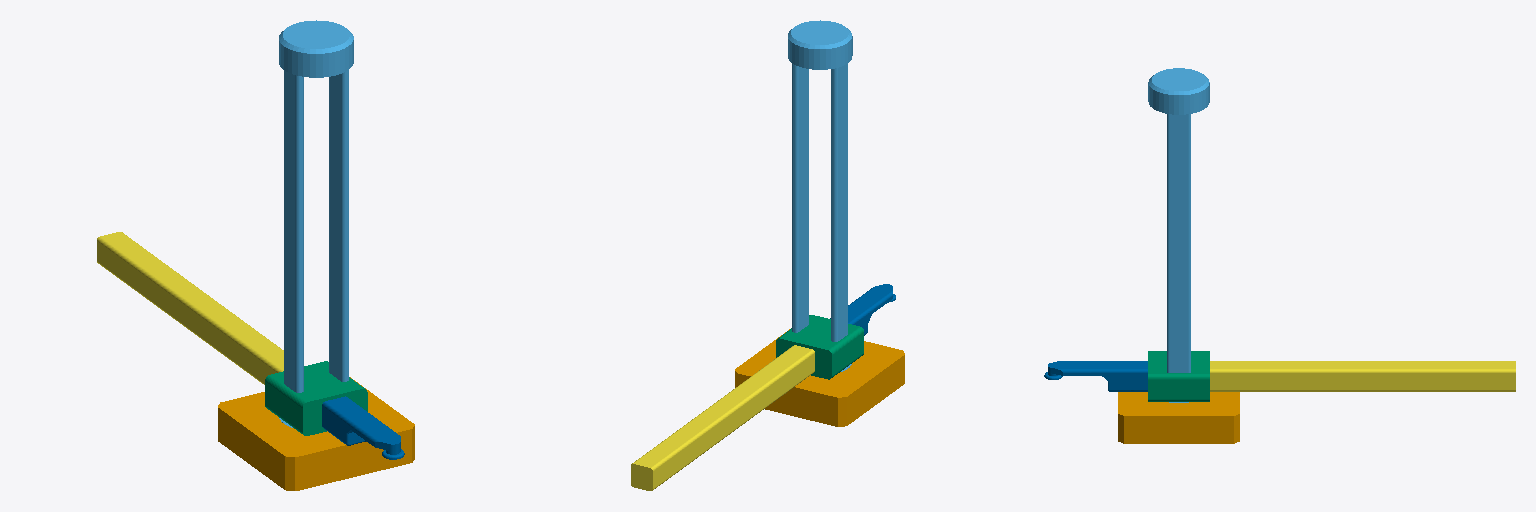
URDF robot description (robot):
<robot name="robot">
    <link name="base_link">
        <visual>
            <origin xyz="0 0 0" rpy="0 0 0"/>
            <geometry>
                <mesh filename="package://my_robot/meshes/Kinematic_Lab0_Base01.STL"/>
            </geometry>    
        </visual>    
        <collision>
            <origin xyz="0 0 0" rpy="0 0 0"/>
            <geometry>
                <mesh filename="package://my_robot/meshes/Kinematic_Lab0_Base01.STL"/>
            </geometry>    
        </collision>
    </link>

    <joint name="q1" type="revolute">
        <origin xyz="0 0 0.01" rpy="0.0 0.0 0.0"/>
        <parent link="base_link"/>
        <child link="link1"/>
        <axis xyz="0 0 1"/>
        <limit lower="-3.14" upper="3.14" effort="1000" velocity="0.0"/>
    </joint>

    <link name="link1">
        <visual>
            <origin xyz="0 0 0" rpy="0 0 0"/>
            <geometry>
                <mesh filename="package://my_robot/meshes/Kinematic_Lab0_RPjoint.STL"/>
            </geometry>    
        </visual>    
        <collision>
            <origin xyz="0 0 0" rpy="0 0 0"/>
            <geometry>
                <mesh filename="package://my_robot/meshes/Kinematic_Lab0_RPjoint.STL"/>
            </geometry>     
        </collision>
    </link>

    <joint name="q2" type="prismatic">
        <origin xyz="0 0 0.065" rpy="0.0 0.0 0.0"/>
        <parent link="link1"/>
        <child link="link2"/>
        <axis xyz="0 0 1"/>
        <limit lower="0.00" upper="0.470" effort="1000" velocity="0.0"/>
    </joint>

    <link name="link2">
        <visual>
            <origin xyz="0 0 0" rpy="0 0 0"/>
            <geometry>
                <mesh filename="package://my_robot/meshes/Kinematic_Lab0_linkkilink.STL"/>
            </geometry>    
        </visual>    
        <collision>
            <origin xyz="0 0 0" rpy="0 0 0"/>
            <geometry>
                <mesh filename="package://my_robot/meshes/Kinematic_Lab0_linkkilink.STL"/>
            </geometry>     
        </collision>
    </link>

    <joint name="q4" type="prismatic">
        <origin xyz="0 -0.05 0" rpy="1.57079632679 0 0"/>
        <parent link="link2"/>
        <child link="link3"/>
        <axis xyz="0 0 1"/>
        <limit lower="0.0" upper="0.50" effort="1000" velocity="0.0"/>
    </joint>

    <link name="link3">
        <visual>
            <origin xyz="0 0 0" rpy="0 0 0"/>
            <geometry>
                <mesh filename="package://my_robot/meshes/Kinematic_Lab0_toptangtang.STL"/>
            </geometry>    
        </visual>    
        <collision>
            <origin xyz="0 0 0" rpy="0 0 0"/>
            <geometry>
                <mesh filename="package://my_robot/meshes/Kinematic_Lab0_toptangtang.STL"/>
            </geometry>     
        </collision>
    </link>

    <joint name="q5" type="fixed">
        <origin xyz="0 0 0.155" rpy="0 0 0"/>
        <parent link="link3"/>
        <child link="End Effector"/>
    </joint>

    <link name="End Effector">
        <visual>
            <origin xyz="0 0 0" rpy="0 0 0"/>
            <geometry>
                <mesh filename="package://my_robot/meshes/Kinematic_Lab0_EndEffector.STL"/>
            </geometry>    
        </visual>    
        <collision>
            <origin xyz="0 0 0" rpy="0 0 0"/>
            <geometry>
                <mesh filename="package://my_robot/meshes/Kinematic_Lab0_EndEffector.STL"/>
            </geometry>     
        </collision>
    </link>
</robot>

--- Facts derived from the render (not from the file) ---
Views: 3 orthographic renders of the robot side by side, from view 1: azimuth 30°, elevation 25°; view 2: azimuth 150°, elevation 25°; view 3: azimuth 270°, elevation 25°.
Robot: robot — 5 links, 4 joints (1 revolute, 2 prismatic, 1 fixed); root link base_link; default pose: all joints at 0.
Visible links, largest first — view 1: link1, base_link, link3, link2, End Effector; view 2: link1, link3, base_link, link2, End Effector; view 3: link3, link1, base_link, link2, End Effector.
Link boxes in pixels (<box>): link1: <box>279,20,353,427</box>; base_link: <box>218,377,414,490</box>; link3: <box>97,232,283,384</box>; link2: <box>265,361,367,435</box>; End Effector: <box>322,396,404,459</box>; link1: <box>788,20,852,371</box>; link3: <box>631,345,814,490</box>; base_link: <box>735,329,904,426</box>; link2: <box>776,315,863,379</box>; End Effector: <box>830,284,895,335</box>; link3: <box>1210,361,1515,391</box>; link1: <box>1148,68,1209,402</box>; base_link: <box>1118,392,1239,443</box>; link2: <box>1148,351,1209,401</box>; End Effector: <box>1044,361,1147,391</box>.
Bounding box of the posed robot: 0.2 × 0.77 × 0.61 m (x, y, z).
5 mesh visuals loaded from 5 distinct referenced files (5 binary STL).
